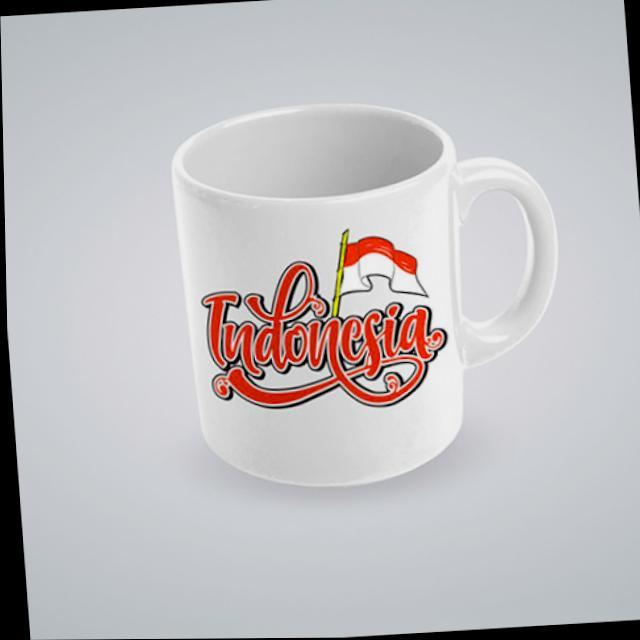cup: (150, 85, 584, 516)
